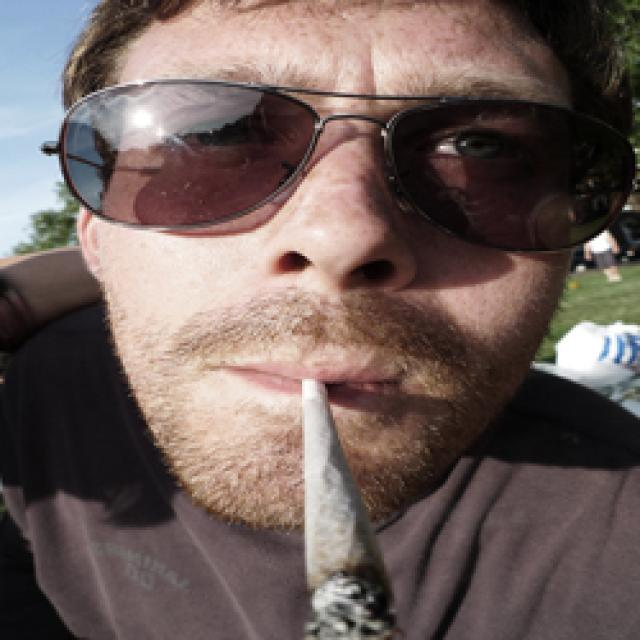Smooking: (292, 374, 425, 632)
